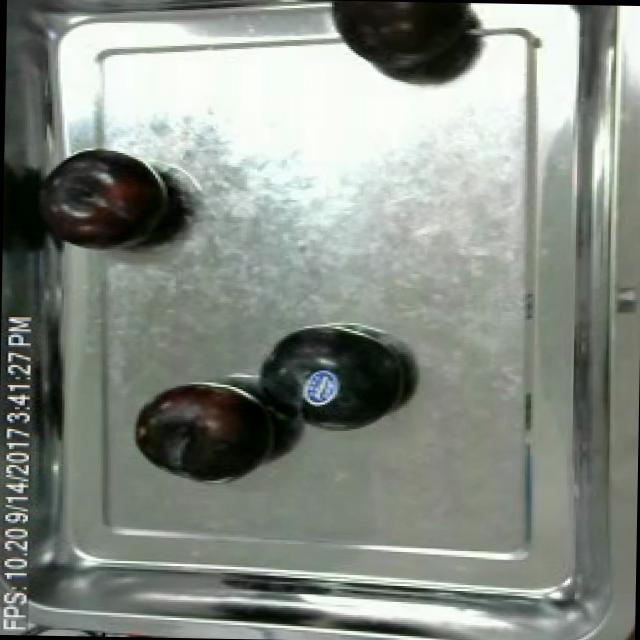Fruit: (242, 322, 412, 436), (128, 378, 282, 488), (36, 146, 180, 256), (322, 0, 479, 81)
